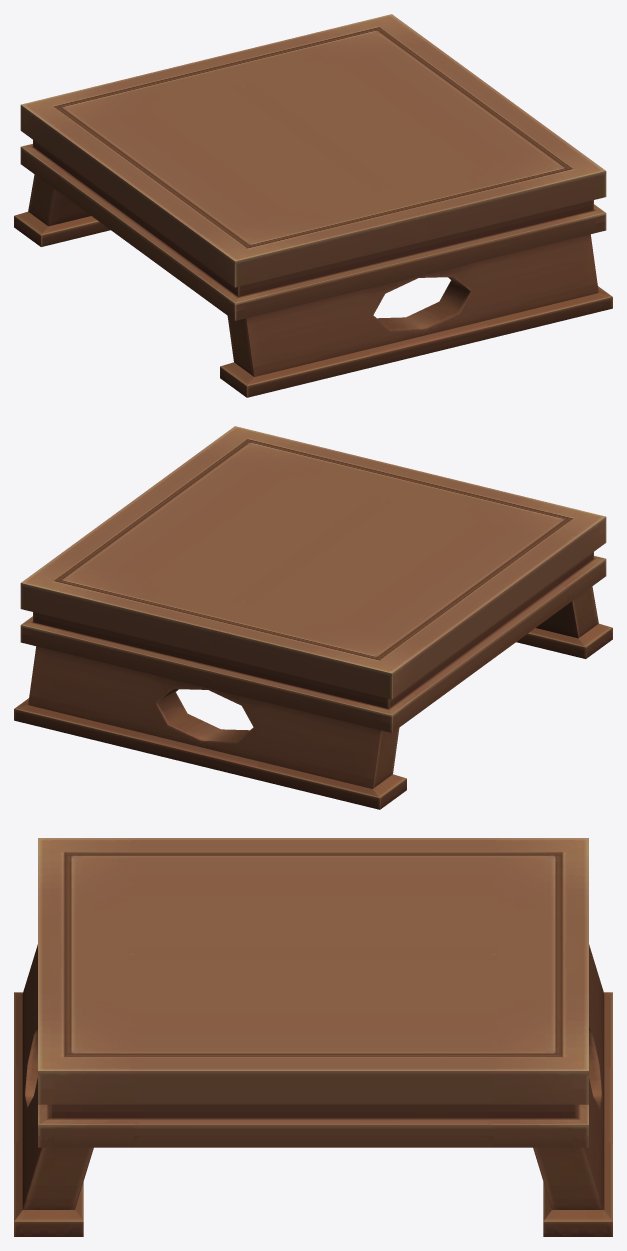
The model's file is my_hyakkiyako_01_table_05.glb.
The picture shows the model from 3 angles, top to bottom: view 1: azimuth 30°, elevation 25°; view 2: azimuth 150°, elevation 25°; view 3: azimuth 270°, elevation 25°; orthographic projection. The views are drawn at different scales.
Visible parts, largest first — view 1: my_hyakkiyako_01_table_05; view 2: my_hyakkiyako_01_table_05; view 3: my_hyakkiyako_01_table_05.
Boxes of the visible parts, x1,y1,x2,y2 form: my_hyakkiyako_01_table_05: (14, 14, 612, 397); my_hyakkiyako_01_table_05: (14, 426, 612, 809); my_hyakkiyako_01_table_05: (14, 838, 612, 1236).
Bounding box in the file's own units: 0.00448 × 0.0015 × 0.00487.
Materials: 1 (1 with a texture image).
